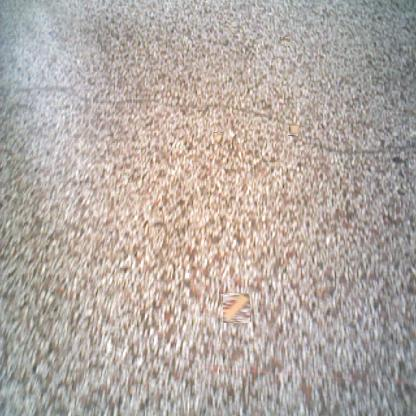dirty: (221, 293, 250, 323), (223, 20, 237, 34), (277, 36, 291, 46), (212, 132, 223, 144), (288, 125, 299, 136)
